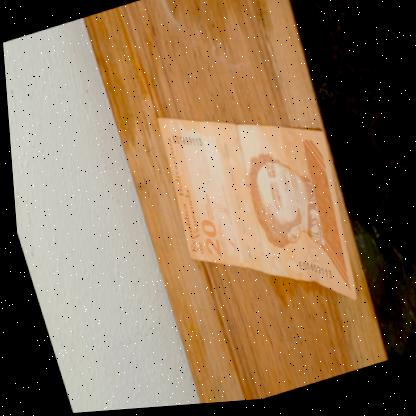twenty-front-vef: (141, 72, 371, 351)
